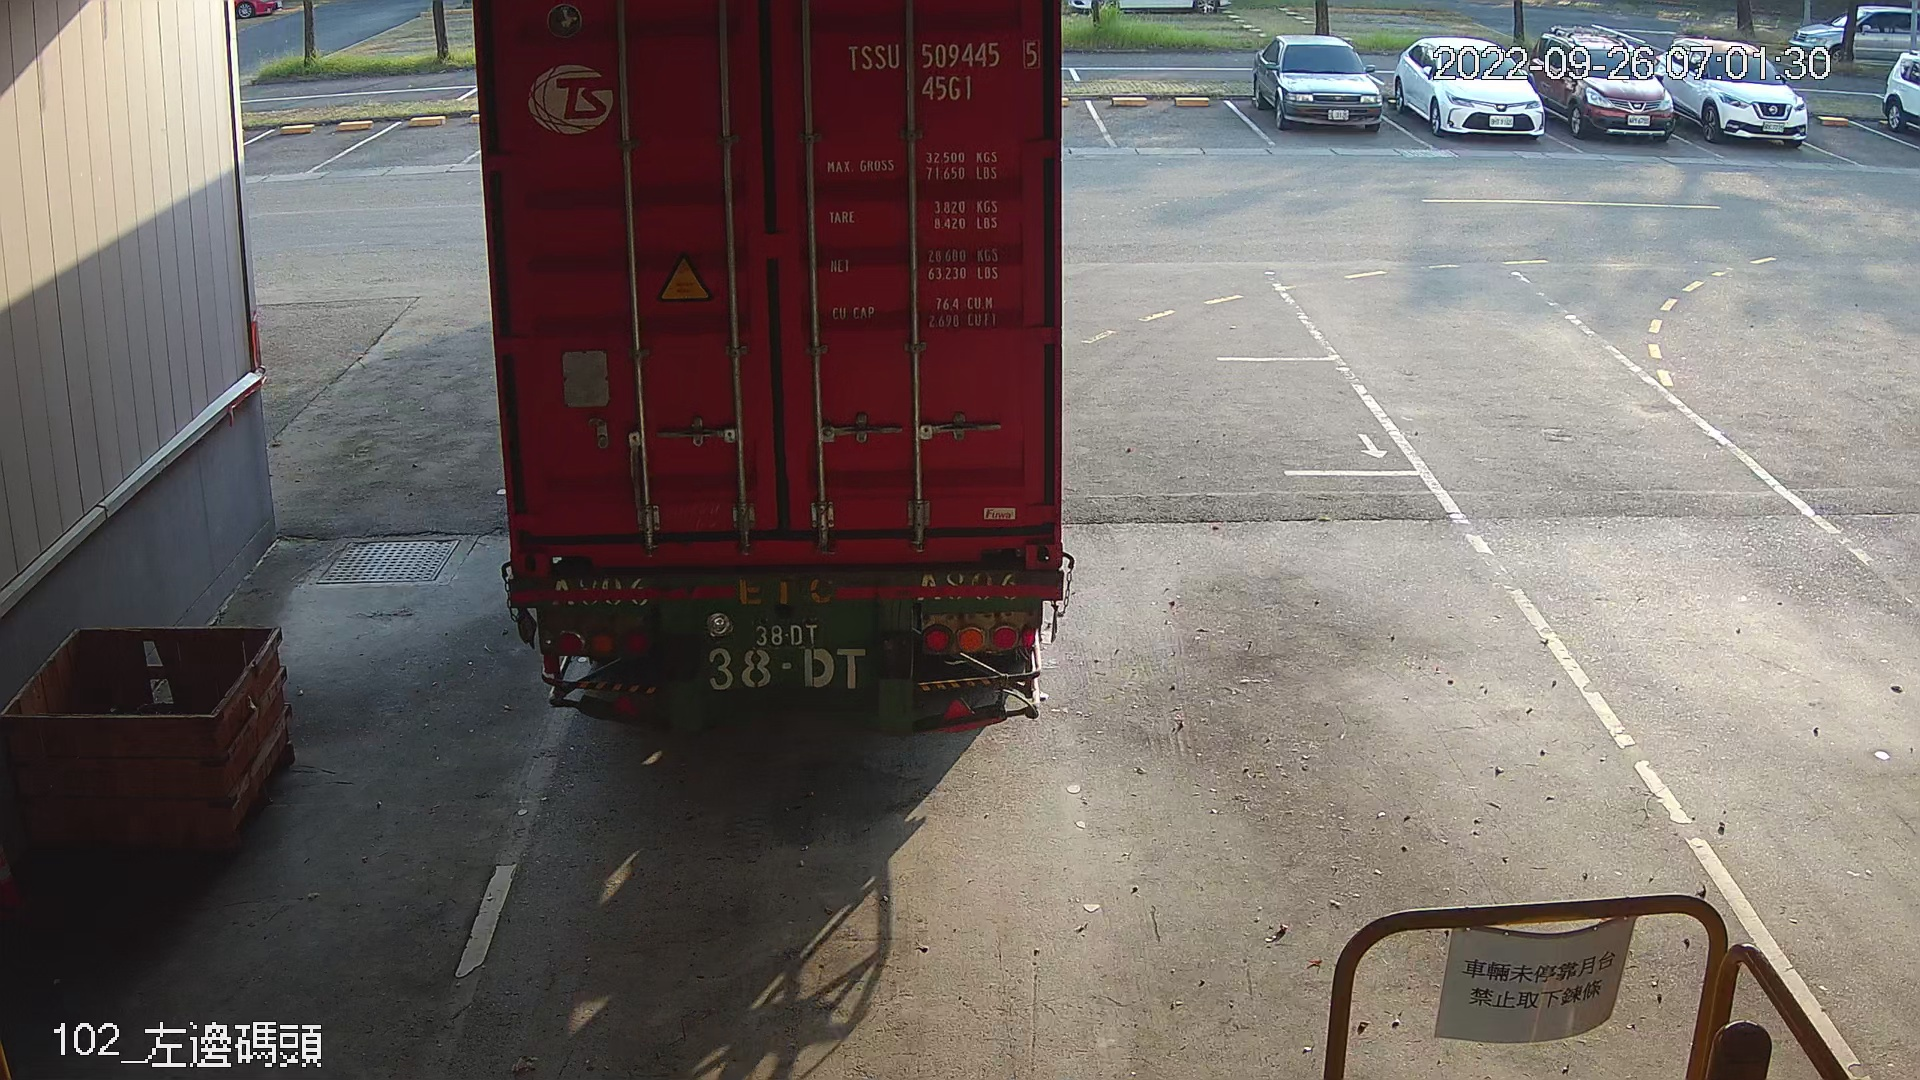container: (833, 33, 1047, 109)
